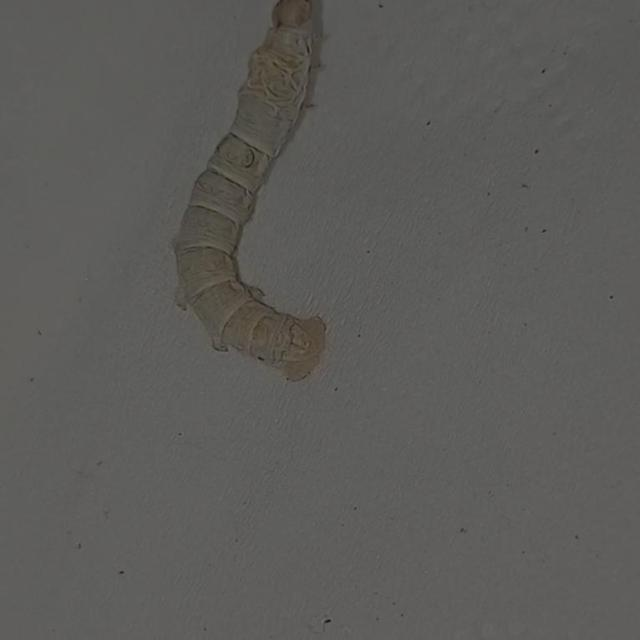Healthy: (162, 0, 351, 396)
